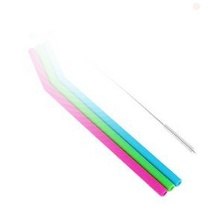drinking_straw: (20, 37, 186, 198)
